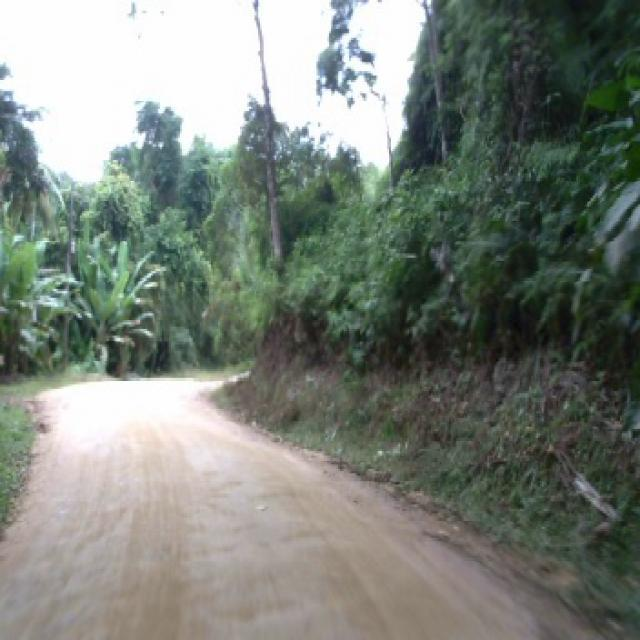Poth-hole: (326, 456, 618, 636)
